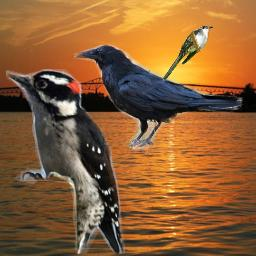Crow: (74, 44, 244, 151)
Cuckoo: (162, 25, 213, 82)
Woodpecker: (6, 69, 126, 254)
